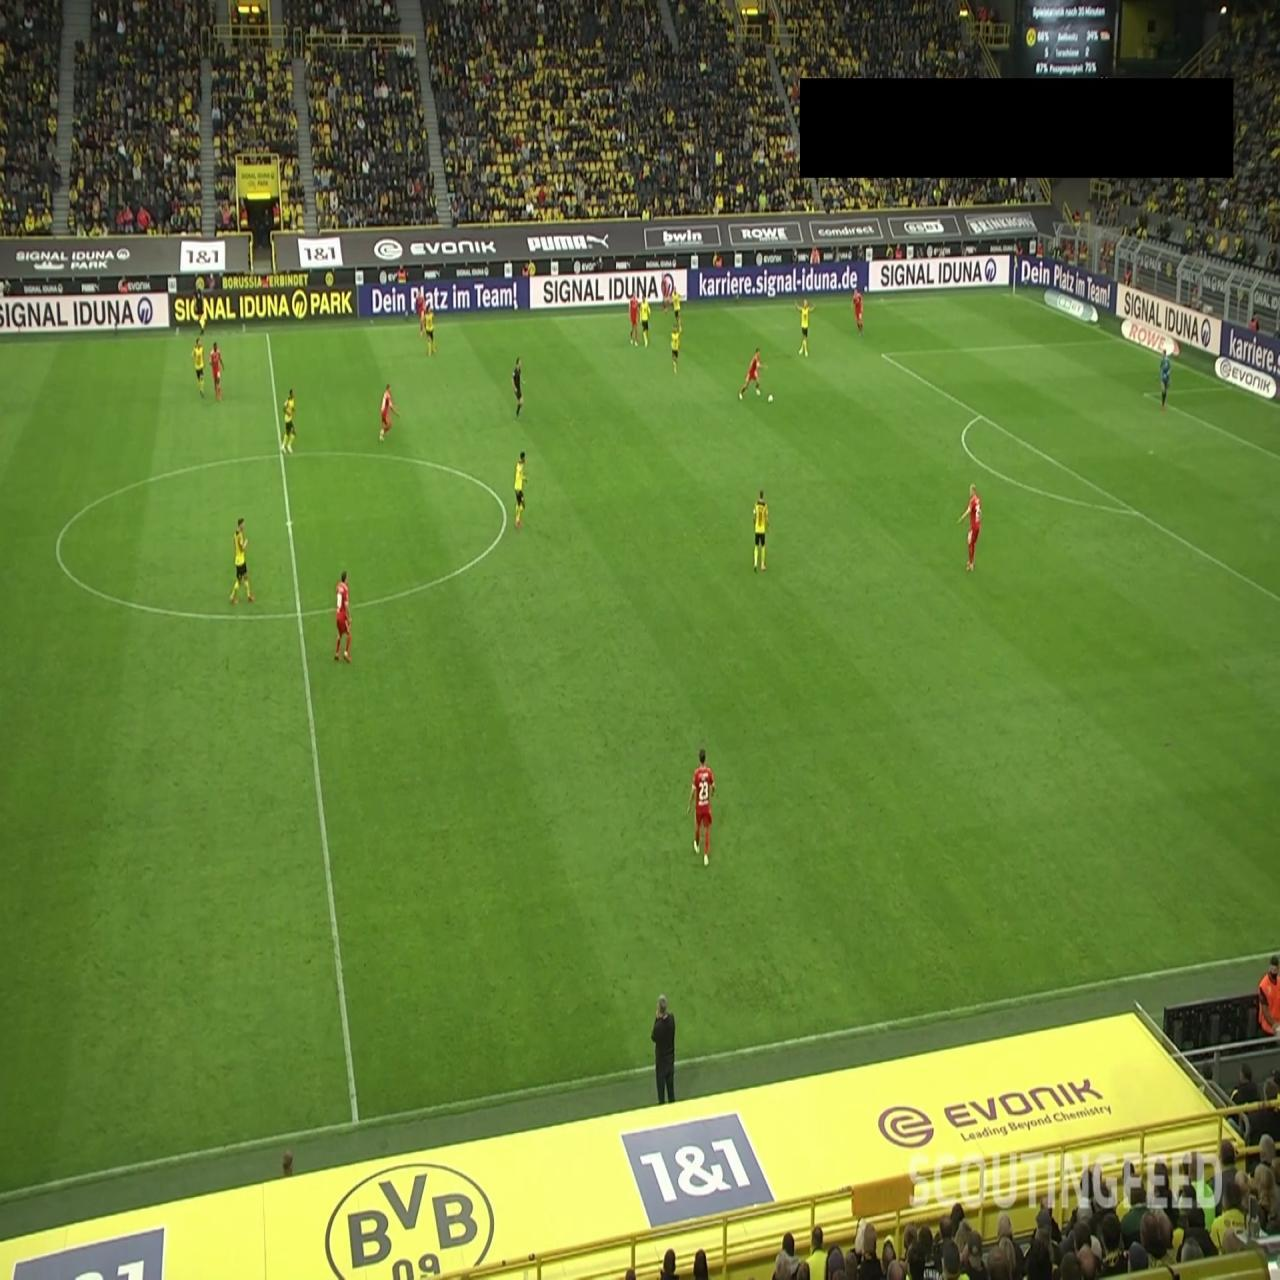Ball: (766, 393, 774, 406)
GoalKeeper: (1158, 348, 1170, 411)
Player: (687, 746, 716, 868), (228, 516, 256, 604), (958, 484, 982, 572), (334, 569, 352, 664), (738, 346, 768, 401), (378, 382, 402, 442), (796, 294, 818, 358), (752, 490, 769, 572), (513, 451, 529, 528), (280, 387, 296, 454), (210, 341, 226, 401), (192, 336, 206, 398), (424, 300, 436, 357), (852, 283, 864, 337), (628, 292, 640, 346), (660, 270, 674, 316), (670, 320, 681, 376), (640, 292, 651, 348), (416, 289, 426, 337), (674, 290, 682, 330)
Referee: (194, 278, 207, 337), (512, 357, 524, 417)
